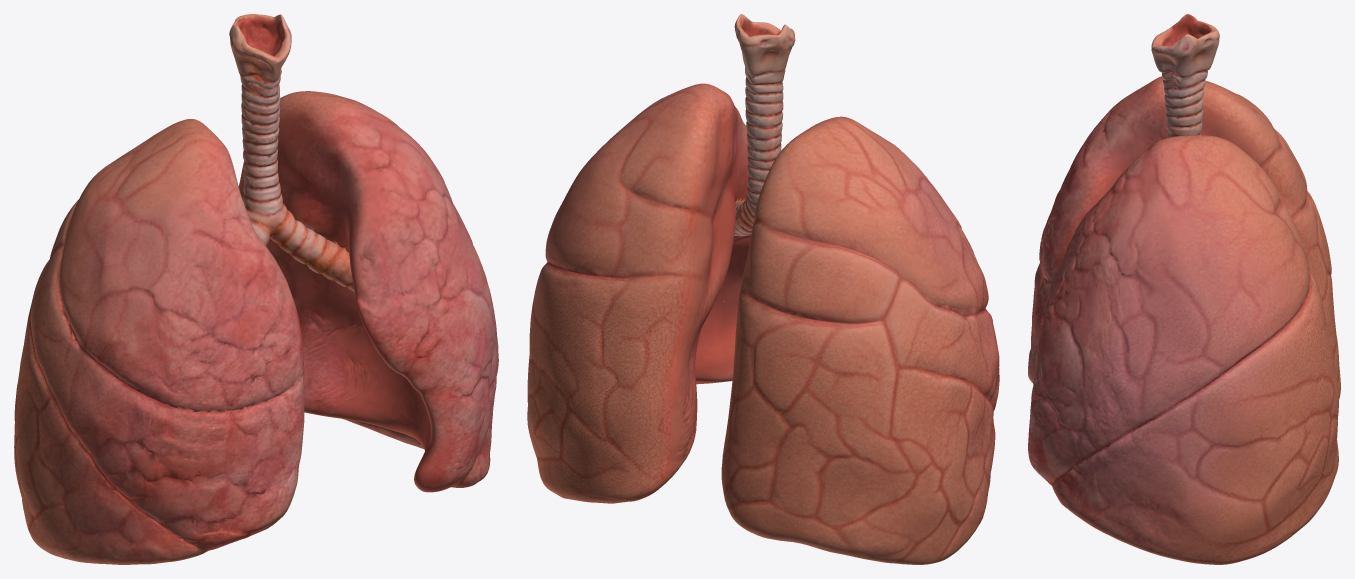
Rendered from lungs.glb.
3 renders of one model, left to right at view 1: azimuth 30°, elevation 25°; view 2: azimuth 150°, elevation 25°; view 3: azimuth 270°, elevation 25°, orthographic. The views are drawn at different scales.
Visible parts, largest first — view 1: tripo_node_a2c7b654-b225-4f4d-9d04-c8d7d752252c; view 2: tripo_node_a2c7b654-b225-4f4d-9d04-c8d7d752252c; view 3: tripo_node_a2c7b654-b225-4f4d-9d04-c8d7d752252c.
Part boxes in pixels (x1,y1,x2,y2): tripo_node_a2c7b654-b225-4f4d-9d04-c8d7d752252c: [14, 14, 498, 564]; tripo_node_a2c7b654-b225-4f4d-9d04-c8d7d752252c: [527, 14, 999, 564]; tripo_node_a2c7b654-b225-4f4d-9d04-c8d7d752252c: [1028, 14, 1340, 564].
Bounding box in the file's own units: 0.9025 × 0.9793 × 0.6131.
1 material, 1 textured.
